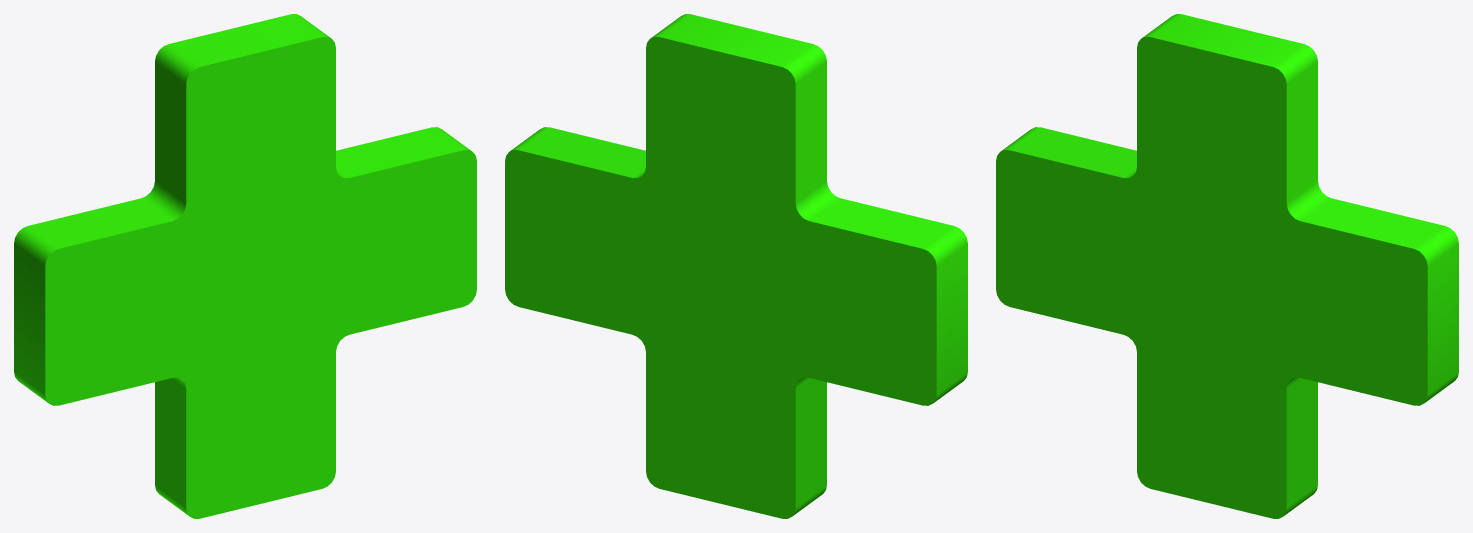
File: health.fbx
The picture shows the model from 3 angles, left to right: view 1: azimuth 30°, elevation 25°; view 2: azimuth 150°, elevation 25°; view 3: azimuth 330°, elevation 25°; orthographic projection.
Parts seen in each view (by area): view 1: Text.002; view 2: Text.002; view 3: Text.002.
Boxes of the visible parts, x1,y1,x2,y2 form: Text.002: [14, 14, 476, 518]; Text.002: [505, 14, 967, 518]; Text.002: [996, 14, 1458, 518].
Size of the model in its own units: 775 by 97.32 by 775.
